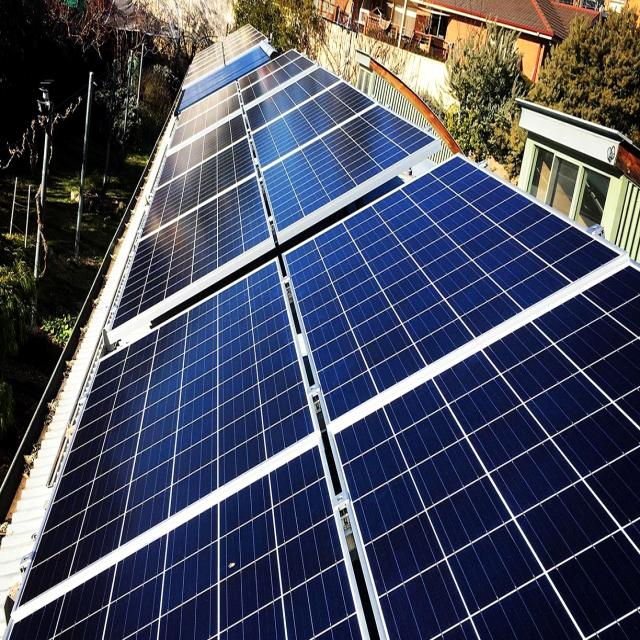crack: (294, 263, 640, 640), (261, 138, 623, 424), (34, 255, 303, 617)
